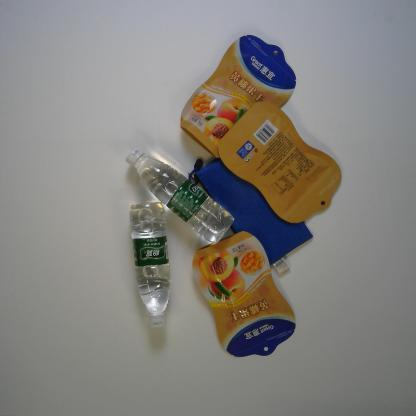Dried Fruit: (217, 100, 343, 226), (178, 31, 296, 159), (188, 230, 298, 360)
Drink: (124, 145, 235, 245), (127, 199, 173, 329)
Stationery: (186, 154, 314, 267)
